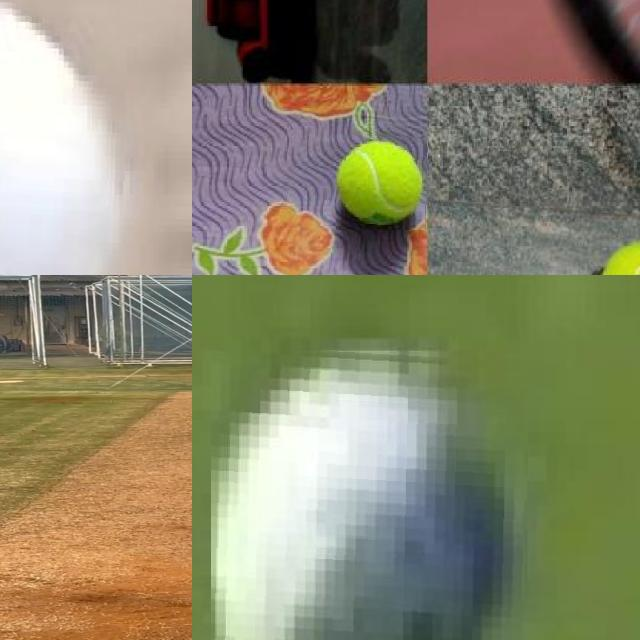Cricket ball: (210, 344, 530, 640), (0, 0, 129, 275), (336, 132, 428, 230)
